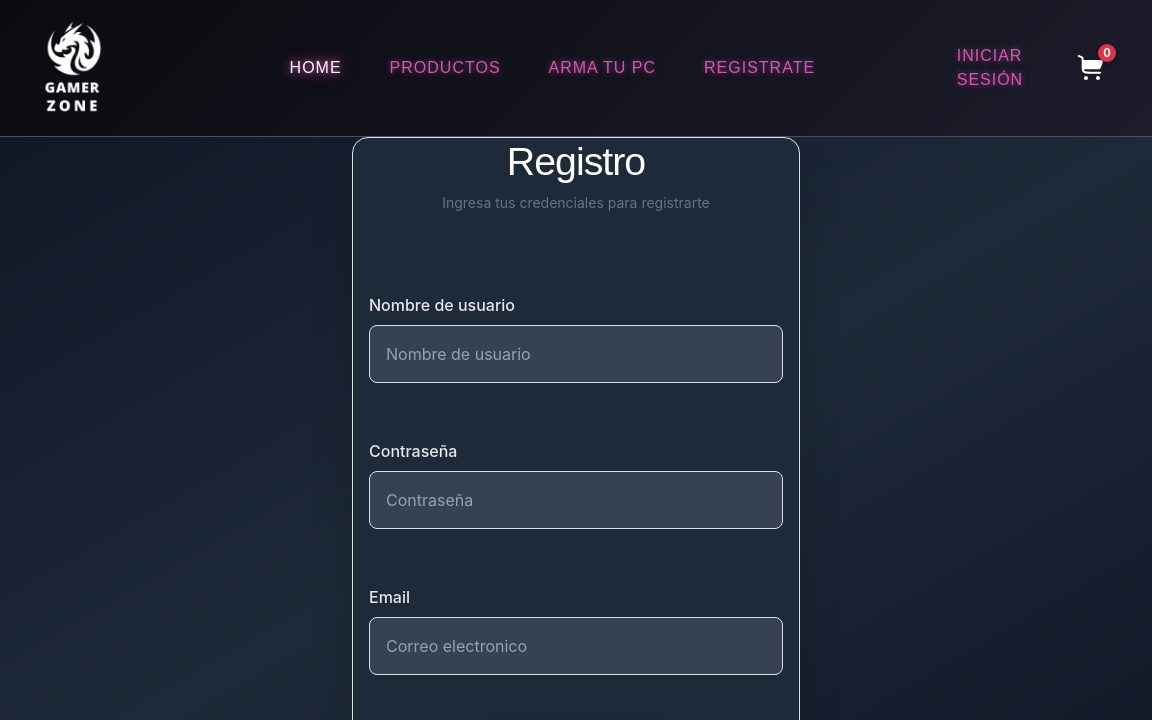
Test: Registro Component › valida formato de email
The width and height of the screenshot is (1152, 720).
# Escribir email inválido
Type "email-invalido" into the field with placeholder "Correo electronico". click: (576, 646)
box: top-left (369, 617), bottom-right (783, 675)
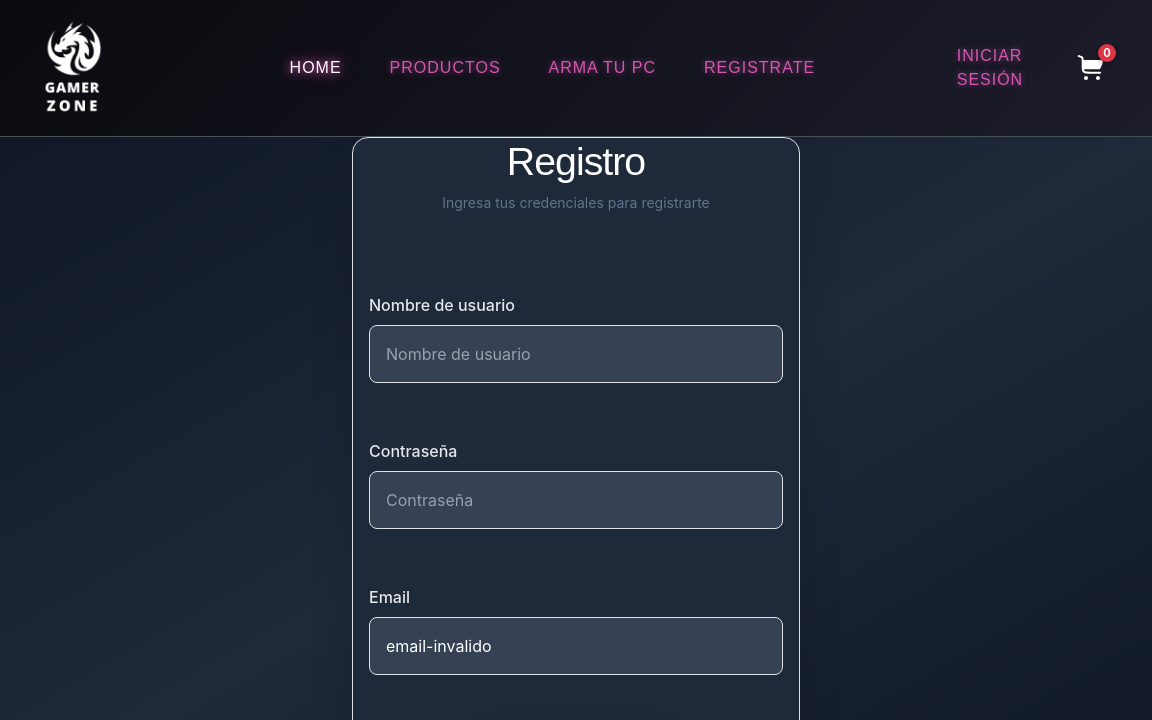
# Hacer blur para forzar validación
Leave the field with placeholder "Correo electronico", box top-left (369, 617), bottom-right (783, 675)
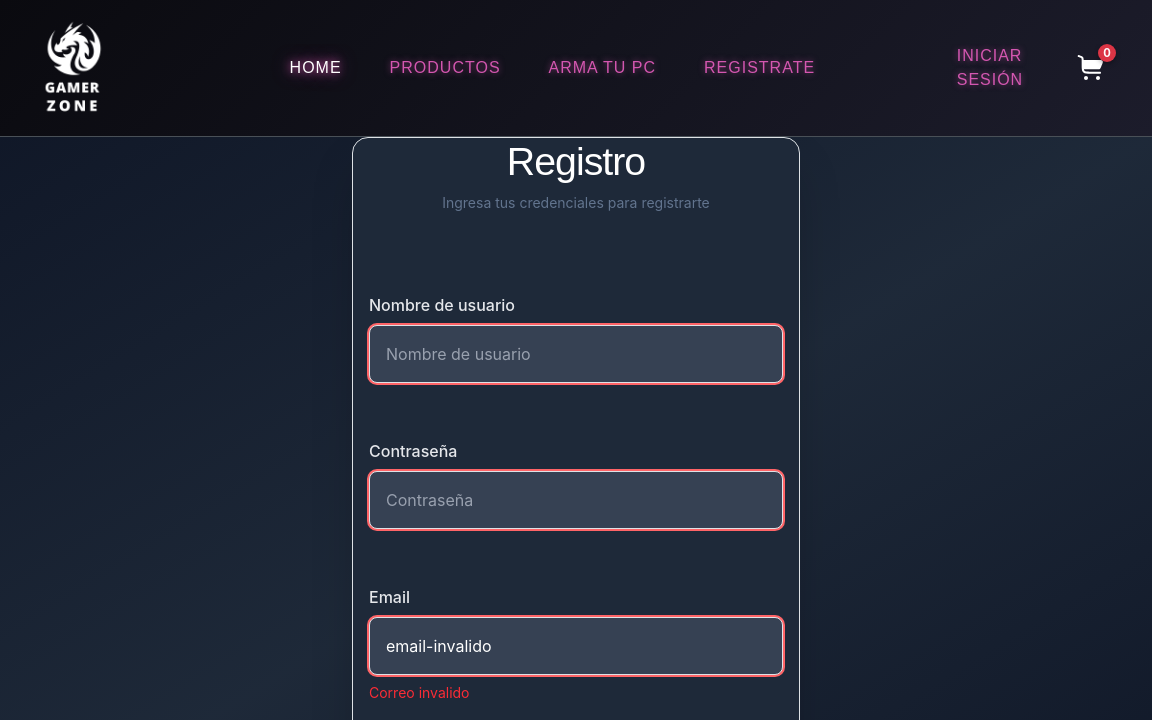
Result: the text "Correo invalido" is shown at top-left (369, 684), bottom-right (470, 701)
